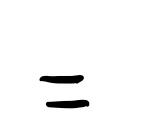eqv: (39, 75, 89, 108)
